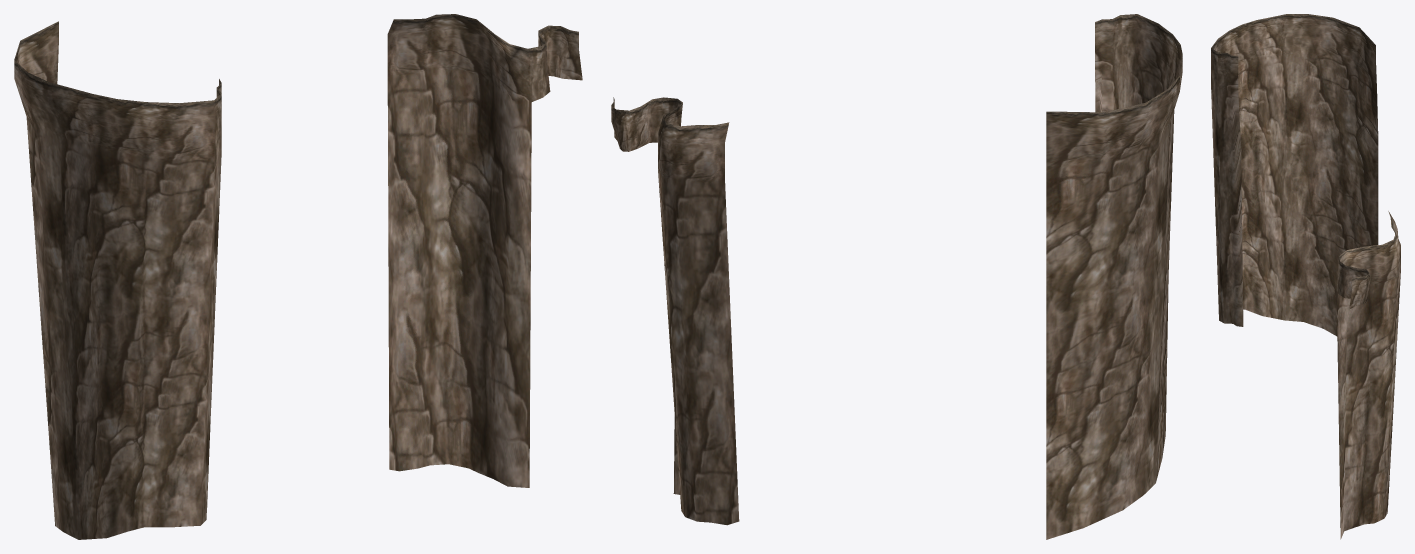
File: OVERHILL_A_01_ROCKWALL4.fbx
3 renders of one model, left to right at view 1: azimuth 30°, elevation 25°; view 2: azimuth 150°, elevation 25°; view 3: azimuth 270°, elevation 25°, orthographic. The views are drawn at different scales.
Visible parts, largest first — view 1: OVERHILL_A_01_ROCKWALL4; view 2: OVERHILL_A_01_ROCKWALL4; view 3: OVERHILL_A_01_ROCKWALL4.
Boxes of the visible parts, <box> form: OVERHILL_A_01_ROCKWALL4: <box>14,14,582,539</box>; OVERHILL_A_01_ROCKWALL4: <box>611,14,1182,539</box>; OVERHILL_A_01_ROCKWALL4: <box>1211,14,1400,539</box>.
Size of the model in its own units: 302058 by 278032 by 132045.
2 materials, 2 textured.
